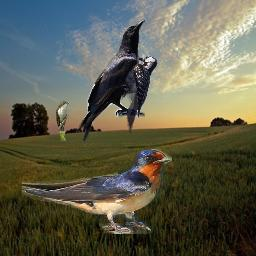Crow: (78, 19, 145, 141)
Cuckoo: (56, 100, 70, 141)
Swallow: (22, 149, 172, 234)
Woodpecker: (120, 52, 158, 134)
